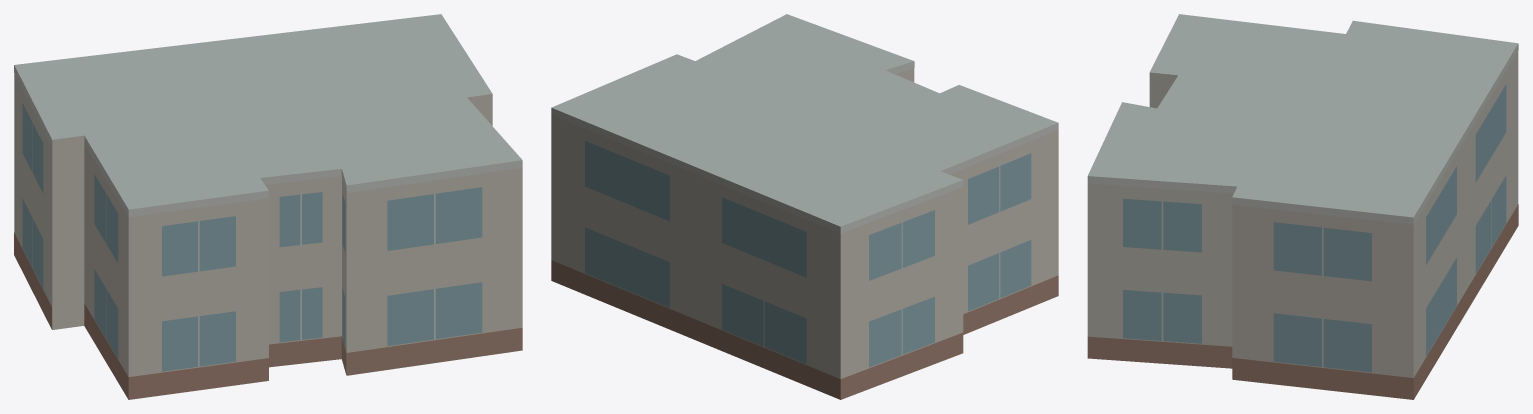
File: survey-upis-32768179.glb
3 renders of one model, left to right at view 1: azimuth 30°, elevation 25°; view 2: azimuth 150°, elevation 25°; view 3: azimuth 270°, elevation 25°, orthographic. The views are drawn at different scales.
Parts seen in each view (by area): view 1: survey-upis-32768179.tmp; view 2: survey-upis-32768179.tmp; view 3: survey-upis-32768179.tmp.
Boxes of the visible parts, x1,y1,x2,y2 form: survey-upis-32768179.tmp: [14, 14, 522, 399]; survey-upis-32768179.tmp: [551, 14, 1058, 399]; survey-upis-32768179.tmp: [1087, 14, 1518, 399].
Size of the model in its own units: 14.61 by 6.1 by 13.07.
